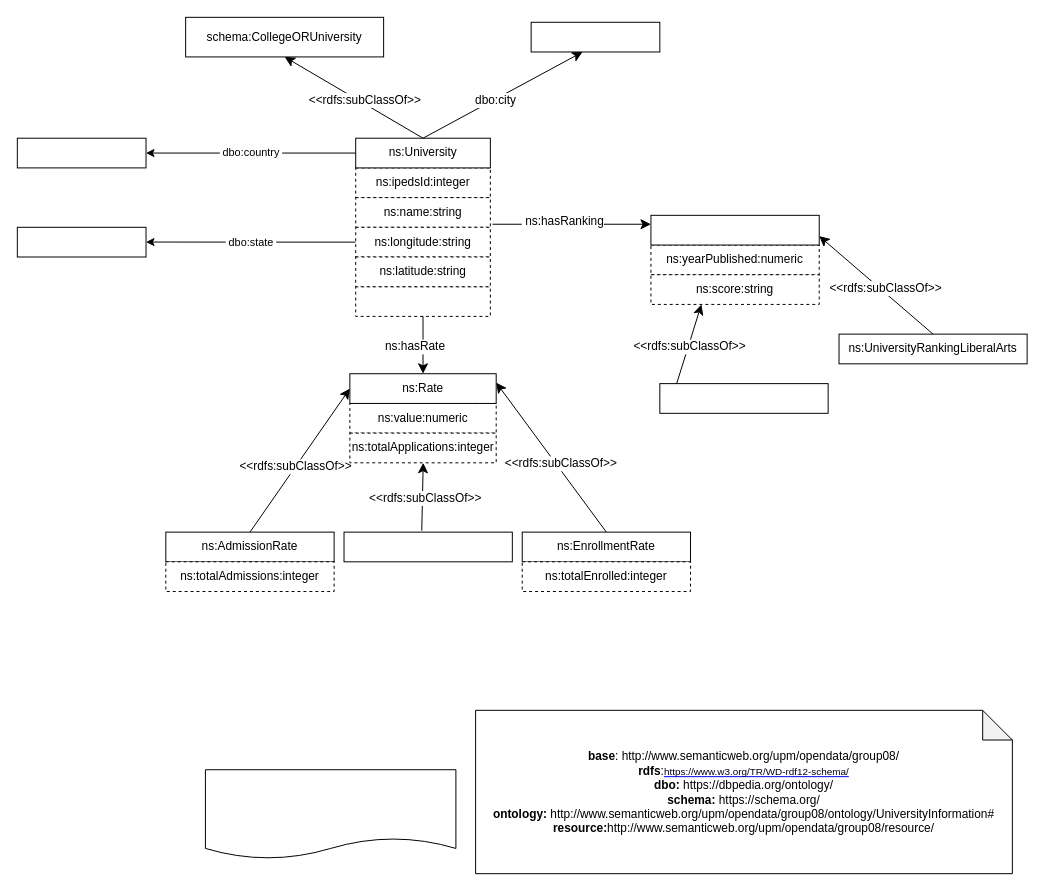
Some shapes in this 1044 by 891 pixel diagram are drawn without their labels. The shapes that lost their labels are listed below. From the top down, each one's centre as x and y in pixels, then its label:
At [595,36]: "ns:City".
At [81,152]: "ns:Country".
At [81,241]: "ns:State".
At [734,229]: "ns:Ranking".
At [422,301]: "ns:website:string".
At [743,398]: "ns:RankingUSNews".
At [427,546]: "ns:AverageGraduationRate".
At [330,814]: "dc:creator: Group08 owl:versionInfo: 0.0.1 dc:title: Universities Ontologies".
